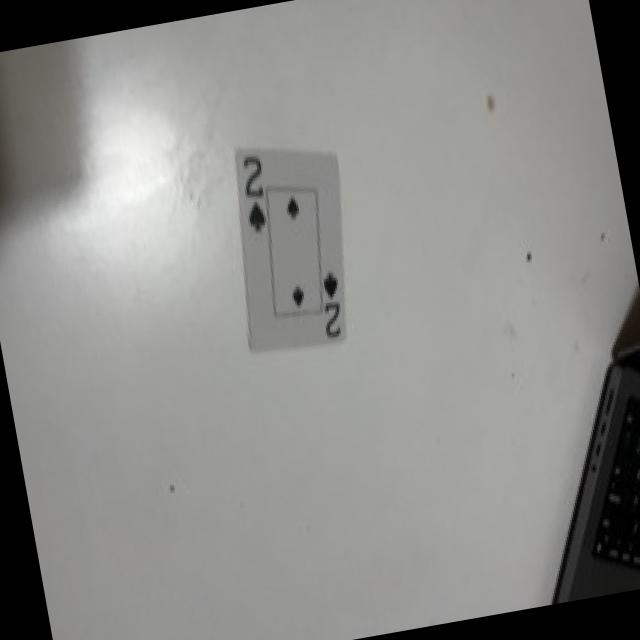2 of spades: (234, 149, 344, 352)
